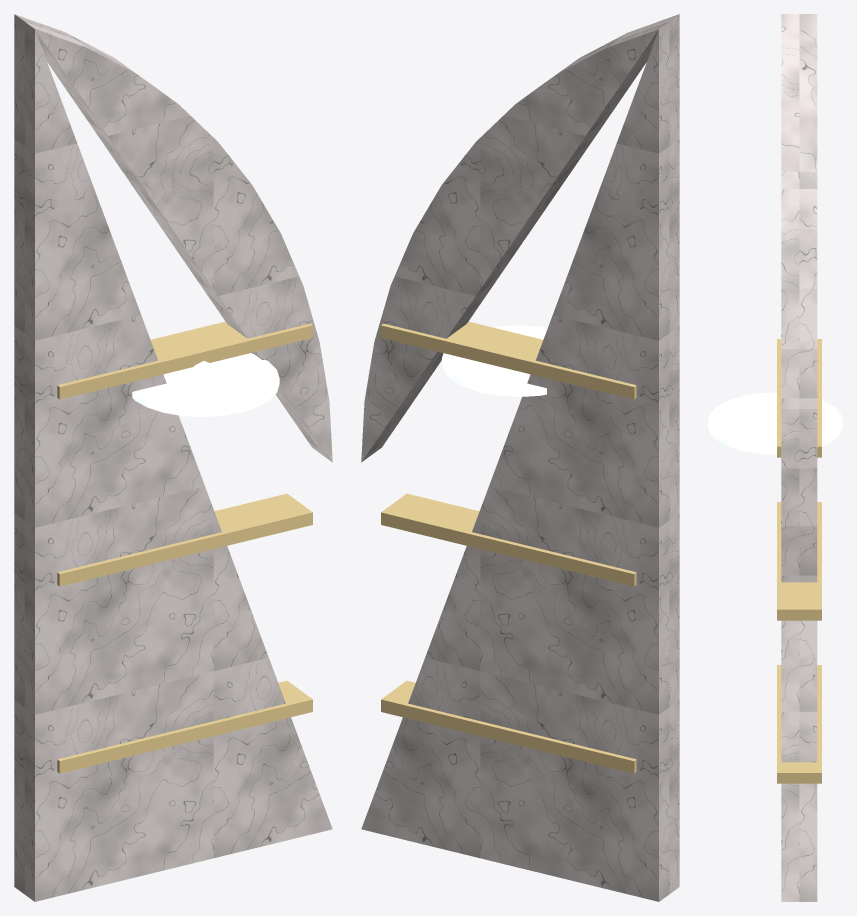
File: GateDoor.glb
3 views of the same model, side by side, from view 1: azimuth 30°, elevation 25°; view 2: azimuth 150°, elevation 25°; view 3: azimuth 270°, elevation 25° (orthographic). The views are drawn at different scales.
Visible parts, largest first — view 1: GateDoor-marble, GateDoor-gold, GateDoor-glow; view 2: GateDoor-marble, GateDoor-gold, GateDoor-glow; view 3: GateDoor-marble, GateDoor-gold, GateDoor-glow.
Part boxes in pixels (box(x1,y1,x2,y2)): GateDoor-marble: box(14, 14, 332, 901); GateDoor-gold: box(57, 321, 312, 773); GateDoor-glow: box(132, 353, 279, 416); GateDoor-marble: box(361, 14, 679, 901); GateDoor-gold: box(381, 321, 636, 773); GateDoor-glow: box(442, 325, 547, 396); GateDoor-marble: box(781, 14, 817, 901); GateDoor-gold: box(777, 339, 821, 783); GateDoor-glow: box(708, 392, 842, 454).
Size of the model in its own units: 20 by 56 by 9.
Materials: 3 (1 with a texture image).
